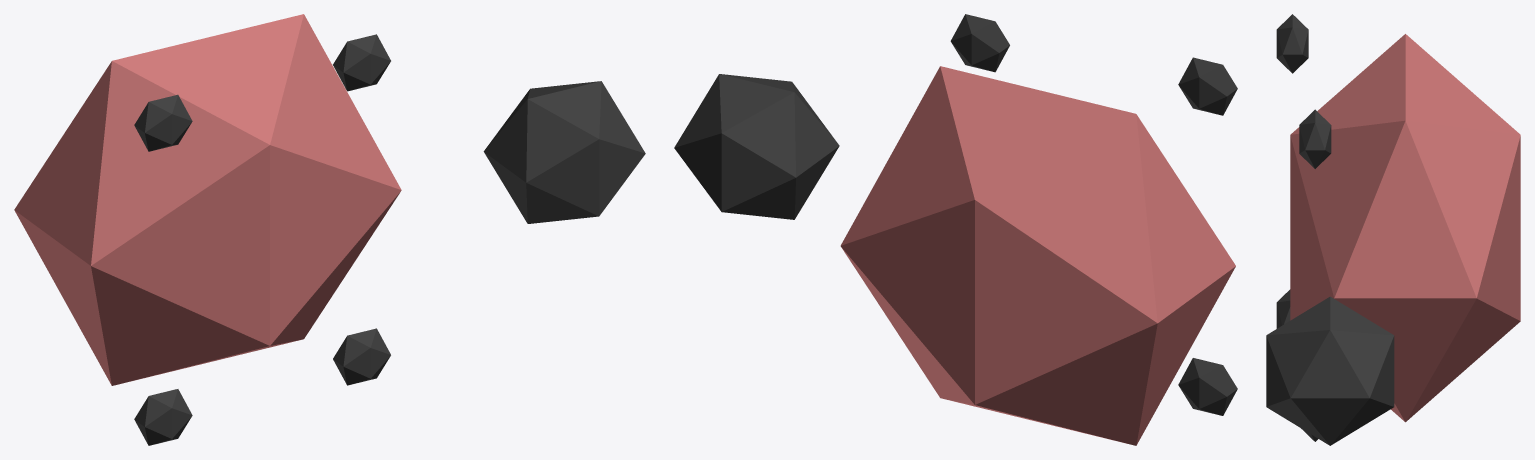
Rendered from ladybug.glb.
3 views of the same model, side by side, from view 1: azimuth 30°, elevation 25°; view 2: azimuth 150°, elevation 25°; view 3: azimuth 270°, elevation 25° (orthographic). The views are drawn at different scales.
Visible parts, largest first — view 1: world; view 2: world; view 3: world.
Boxes of the visible parts, x1,y1,x2,y2 form: world: (14, 14, 645, 445); world: (674, 14, 1237, 445); world: (1266, 14, 1520, 445).
Bounding box in the file's own units: 0.7562 × 0.4681 × 0.3382.
